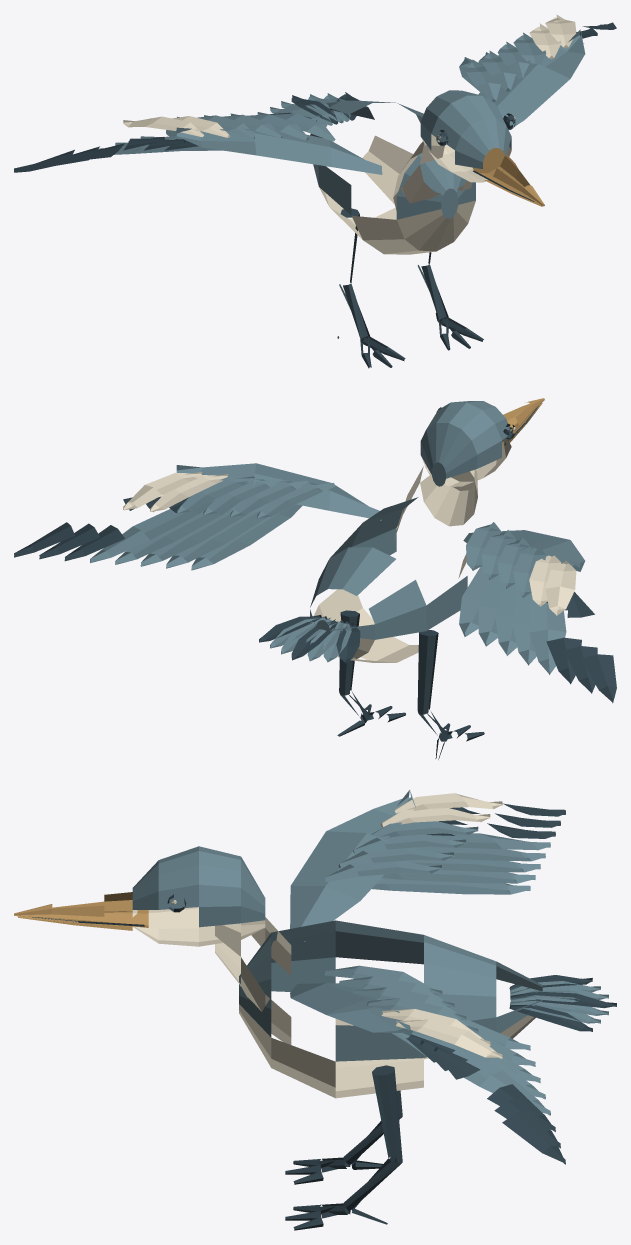
The model's file is ichthyornis.glb.
3 views of the same model, one above another, from view 1: azimuth 30°, elevation 25°; view 2: azimuth 150°, elevation 25°; view 3: azimuth 270°, elevation 25° (orthographic). The views are drawn at different scales.
Parts seen in each view (by area): view 1: ichthyornis-plumage, ichthyornis-warm-breast, ichthyornis-quiet-dark, ichthyornis-accent; view 2: ichthyornis-plumage, ichthyornis-quiet-dark, ichthyornis-warm-breast, ichthyornis-accent; view 3: ichthyornis-plumage, ichthyornis-warm-breast, ichthyornis-quiet-dark, ichthyornis-accent.
Boxes of the visible parts, x1=… form: ichthyornis-plumage: x1=98, y1=29, x2=585, y2=219; ichthyornis-warm-breast: x1=123, y1=15, x2=576, y2=254; ichthyornis-quiet-dark: x1=14, y1=22, x2=616, y2=368; ichthyornis-accent: x1=473, y1=148, x2=544, y2=206; ichthyornis-plumage: x1=90, y1=401, x2=584, y2=674; ichthyornis-quiet-dark: x1=14, y1=406, x2=616, y2=759; ichthyornis-warm-breast: x1=123, y1=427, x2=576, y2=662; ichthyornis-accent: x1=502, y1=398, x2=544, y2=445; ichthyornis-plumage: x1=132, y1=790, x2=608, y2=1115; ichthyornis-warm-breast: x1=132, y1=793, x2=535, y2=1098; ichthyornis-quiet-dark: x1=32, y1=803, x2=616, y2=1230; ichthyornis-accent: x1=14, y1=892, x2=148, y2=930.
Size of the model in its own units: 0.4124 by 0.1901 by 0.3.
